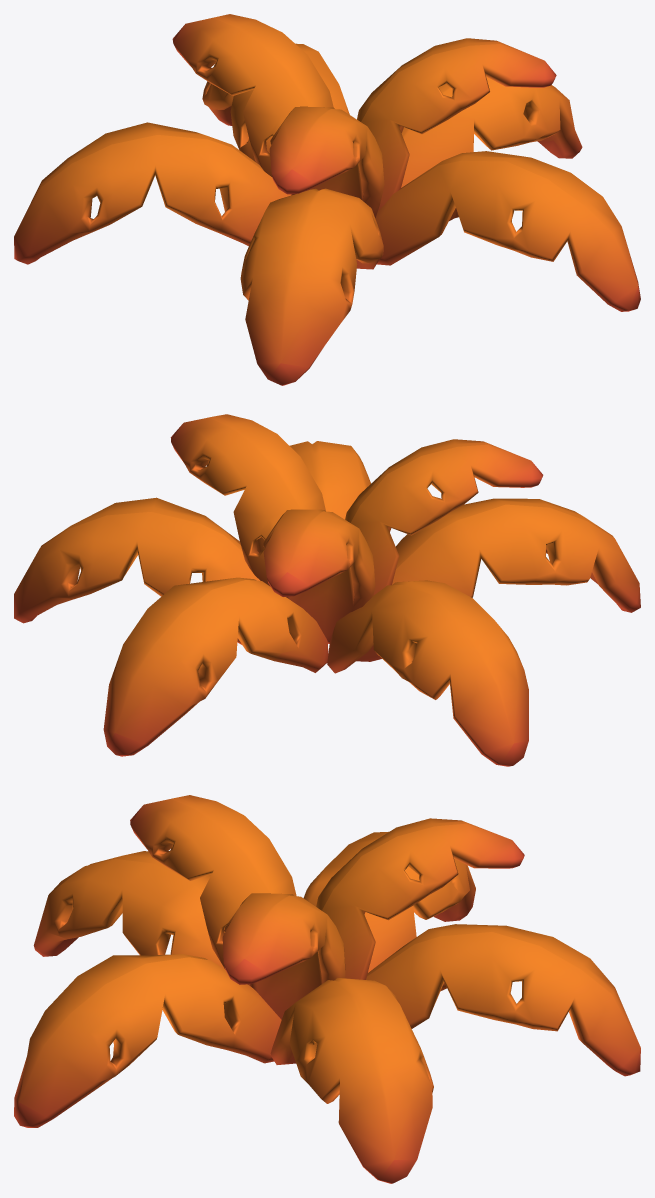
File: Plants_027.fbx
The picture shows the model from 3 angles, top to bottom: view 1: azimuth 30°, elevation 25°; view 2: azimuth 150°, elevation 25°; view 3: azimuth 270°, elevation 25°; orthographic projection. The views are drawn at different scales.
Parts seen in each view (by area): view 1: Plants.027; view 2: Plants.027; view 3: Plants.027.
Boxes of the visible parts, x1=… form: Plants.027: x1=14, y1=14, x2=640, y2=385; Plants.027: x1=14, y1=414, x2=640, y2=766; Plants.027: x1=14, y1=795, x2=640, y2=1183.
Bounding box in the file's own units: 1041 × 359 × 1011.
